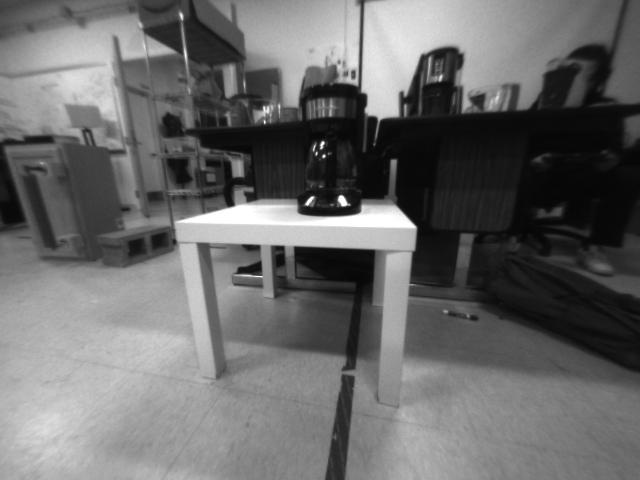coffee_pot: (294, 84, 365, 218)
